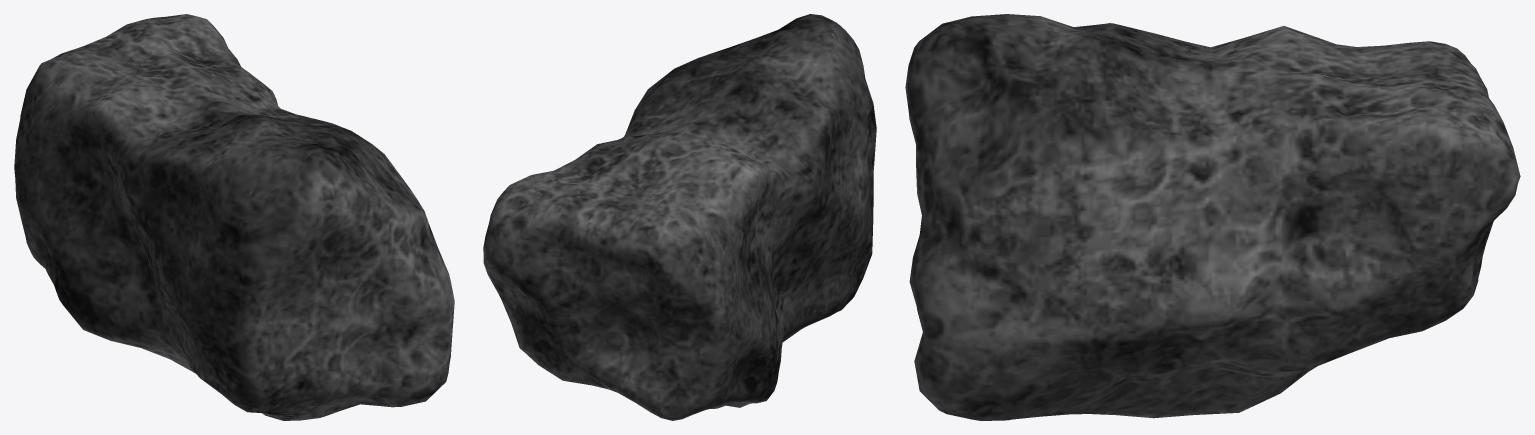
Rendered from asteroid4.glb.
3 renders of one model, left to right at view 1: azimuth 30°, elevation 25°; view 2: azimuth 150°, elevation 25°; view 3: azimuth 270°, elevation 25°, orthographic. The views are drawn at different scales.
Visible parts, largest first — view 1: Asteroid_no_9_Material #3_0; view 2: Asteroid_no_9_Material #3_0; view 3: Asteroid_no_9_Material #3_0.
Part boxes in pixels (box(x1,y1,x2,y2)): Asteroid_no_9_Material #3_0: box(14, 14, 454, 420); Asteroid_no_9_Material #3_0: box(483, 14, 876, 420); Asteroid_no_9_Material #3_0: box(905, 14, 1520, 420).
Bounding box in the file's own units: 5.29 × 6.1 × 9.09.
Materials: 1 (1 with a texture image).
